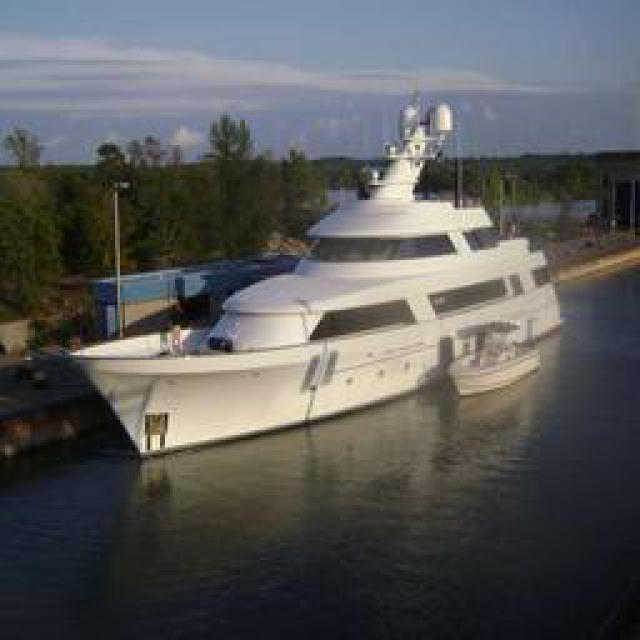Ship: (70, 157, 560, 460)
